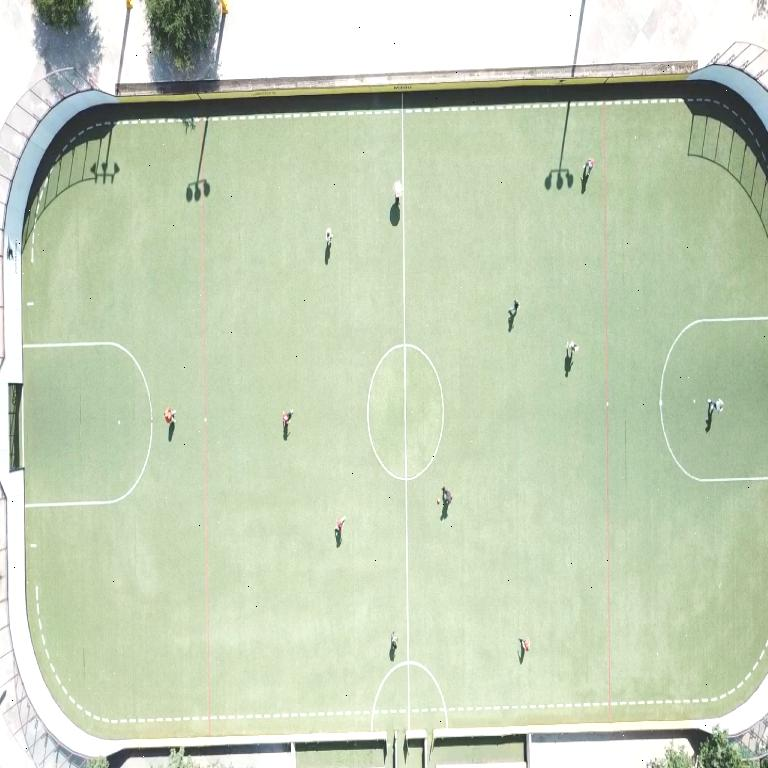AC: (23, 342, 152, 508), (659, 316, 767, 483)
B: (437, 496, 442, 505)
MC: (400, 197, 410, 729)
P: (334, 517, 345, 539), (582, 158, 593, 179), (393, 181, 402, 204), (708, 399, 722, 413), (441, 487, 451, 506), (390, 631, 398, 654), (508, 300, 518, 318), (164, 407, 174, 424), (566, 342, 578, 356), (282, 410, 291, 427), (519, 637, 529, 652), (325, 229, 332, 247)
